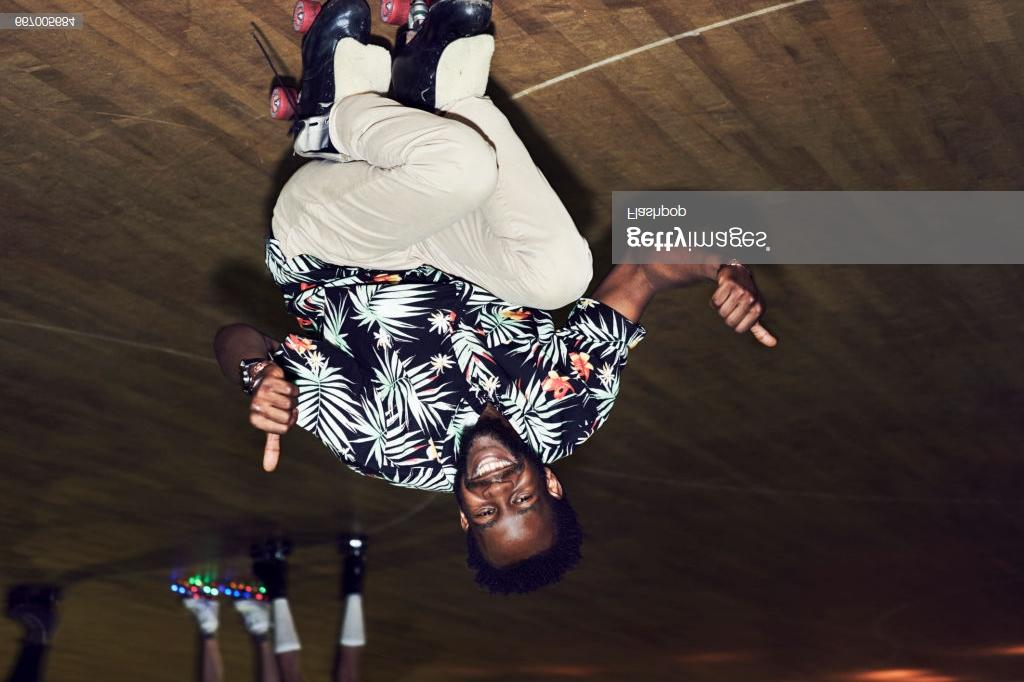thumbsdown: (707, 277, 778, 348), (248, 377, 300, 473)
